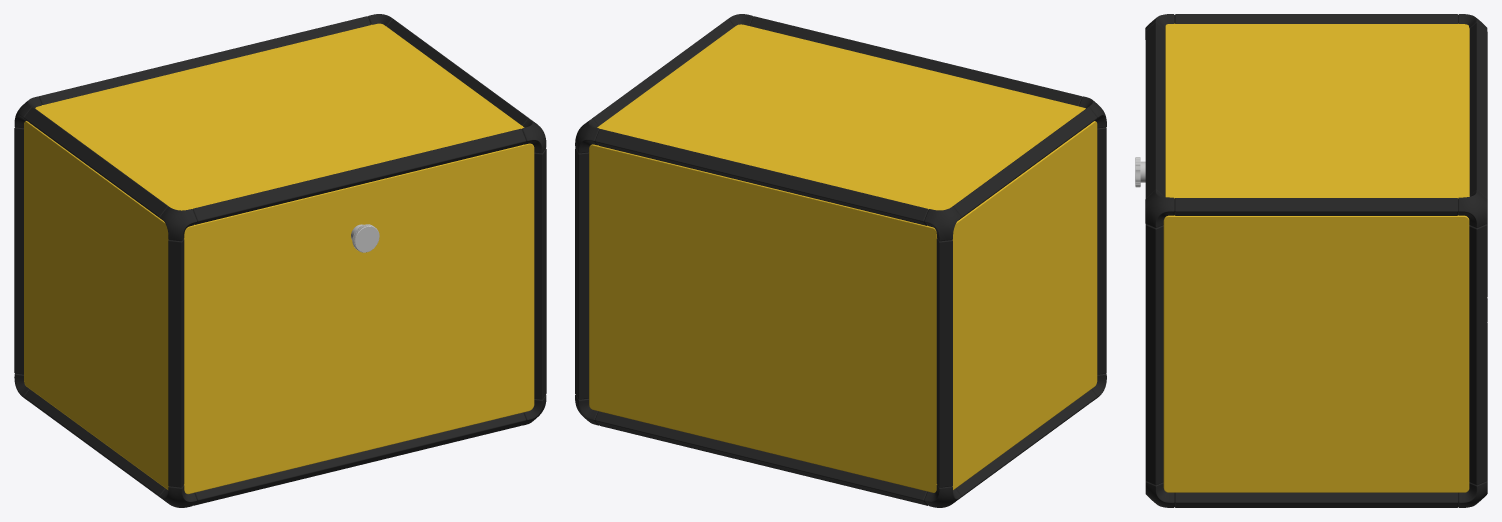
3 views of the same model, side by side, from view 1: azimuth 30°, elevation 25°; view 2: azimuth 150°, elevation 25°; view 3: azimuth 270°, elevation 25° (orthographic). The views are drawn at different scales.
Visible parts, largest first — view 1: 523x374x374; view 2: 523x374x374; view 3: 523x374x374.
Boxes of the visible parts, x1=… form: 523x374x374: x1=14, y1=14, x2=546, y2=507; 523x374x374: x1=575, y1=14, x2=1106, y2=507; 523x374x374: x1=1135, y1=14, x2=1487, y2=507.
Bounding box in the file's own units: 0.6007 × 0.4516 × 0.4646.
